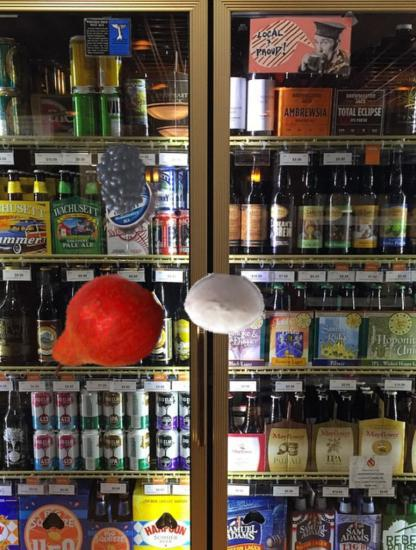Hazelnut: (182, 263, 266, 347)
Mulberry: (85, 144, 157, 216)
Pear: (33, 264, 166, 397)
